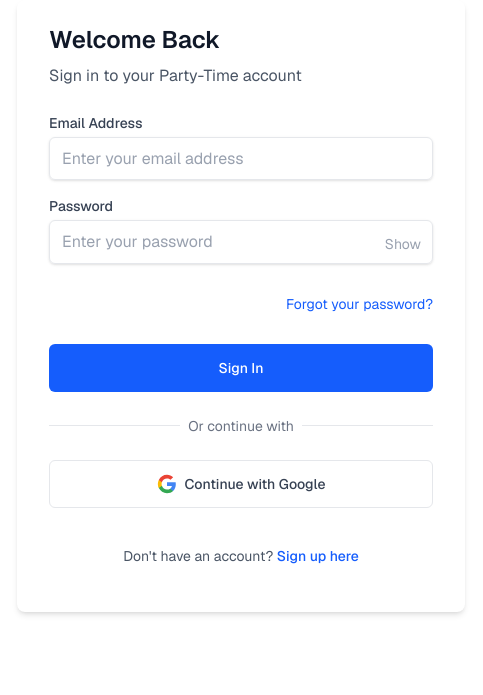
Test: LoginForm › handles Google login error
Click the button "Continue with Google". click: {"x": 241, "y": 484}
box: [49,460,433,508]
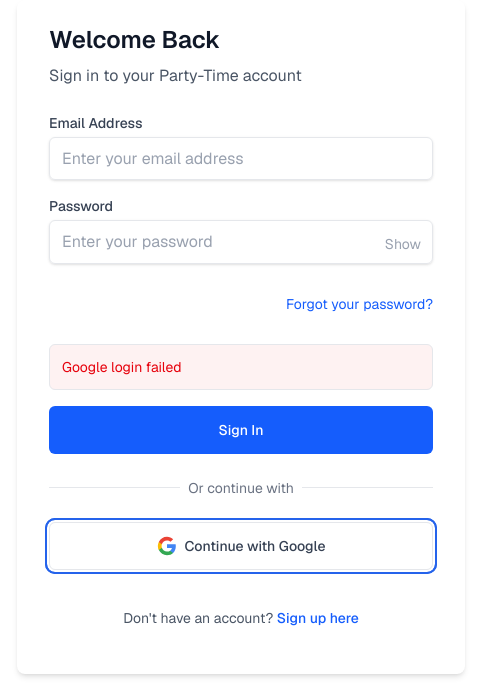
Expected: the text "Google login failed" is shown, [62,358,182,376]
